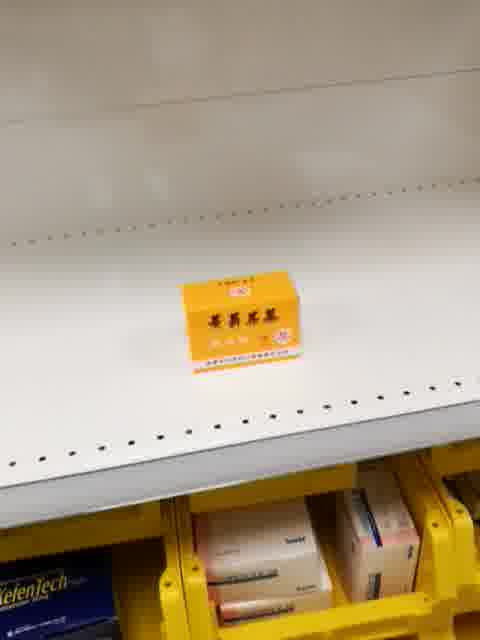jasminetea: (178, 269, 306, 374)
